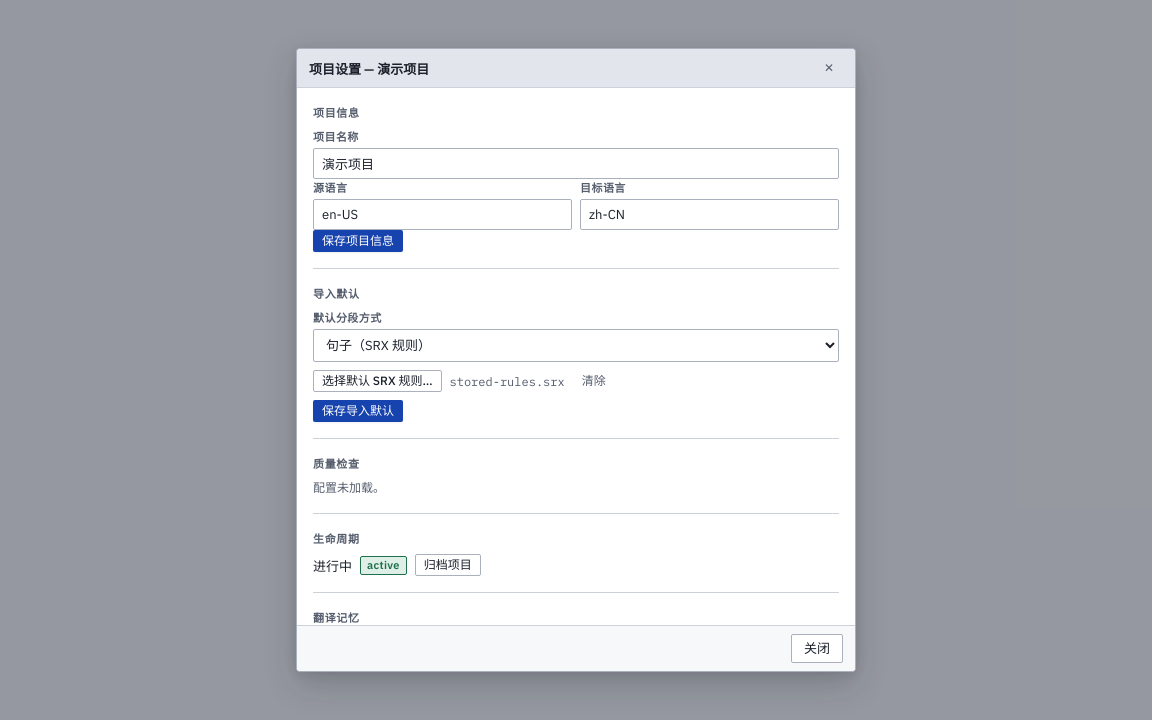
Test: ProjectSettingsDialog › saves a paragraph default without touching the stored SRX
The width and height of the screenshot is (1152, 720).
Step 1. Select "段落" in the dropdown labelled "默认分段方式" → (576, 346), box x1=313 y1=329 x2=839 y2=362
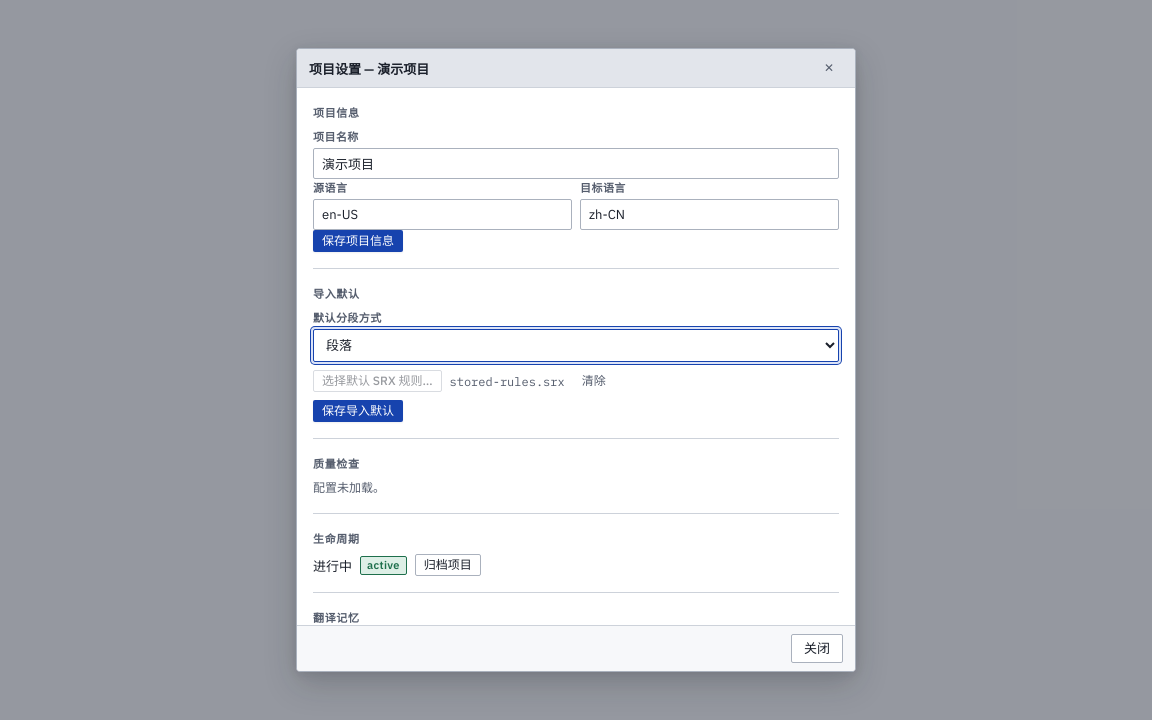
Step 2. Click the button "保存导入默认" → click(358, 411), box x1=313 y1=400 x2=403 y2=422
(page scrolled)
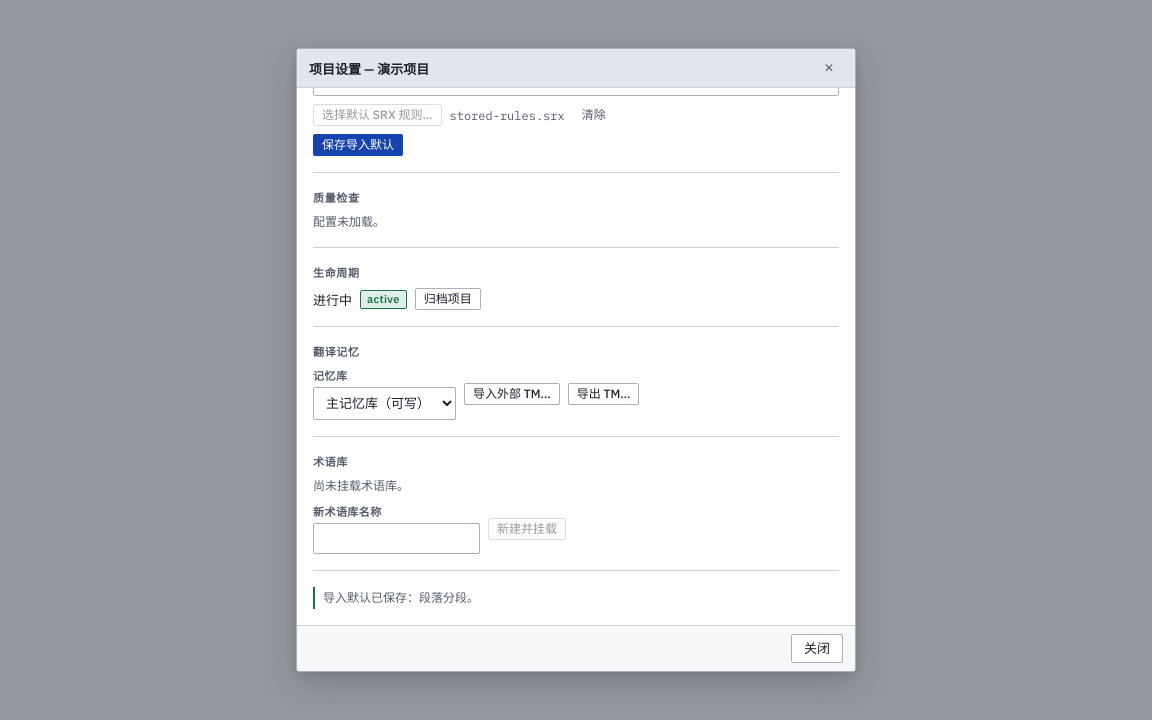
Expected: the text "导入默认已保存：段落分段。" is shown, x1=313 y1=587 x2=839 y2=609
